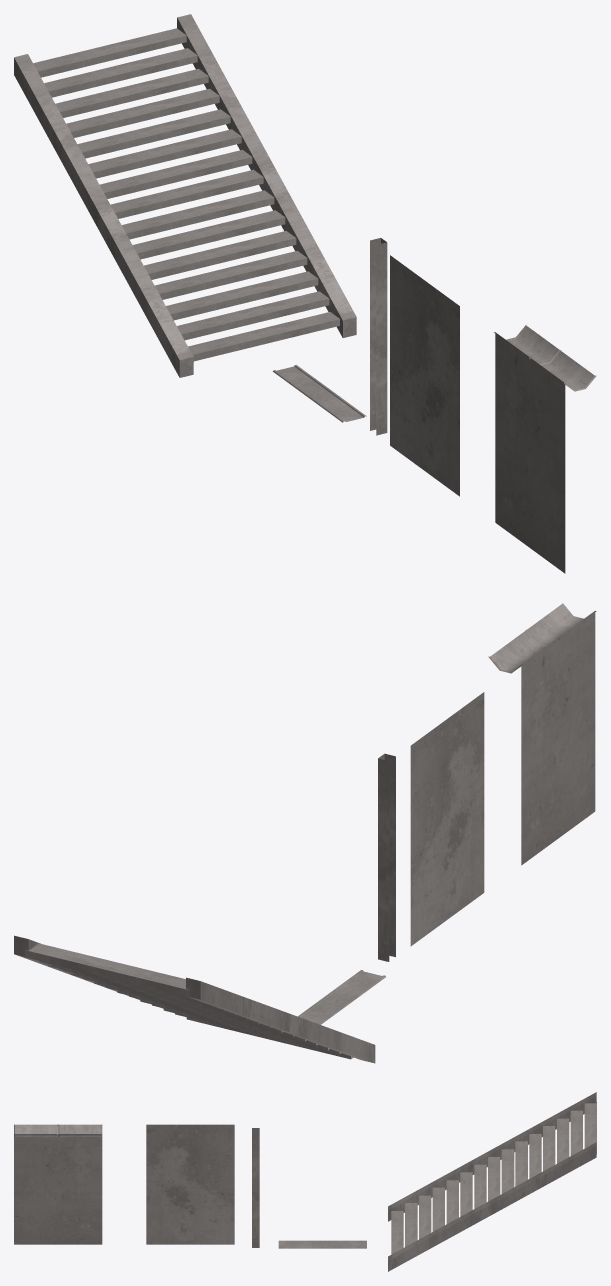
Rendered from Models.fbx.
3 renders of one model, top to bottom at view 1: azimuth 30°, elevation 25°; view 2: azimuth 150°, elevation 25°; view 3: azimuth 270°, elevation 25°, orthographic. The views are drawn at different scales.
Visible parts, largest first — view 1: Cube.001, Plane.001, Plane, Cube, Plane.002, Plane.003; view 2: Plane, Plane.001, Cube.001, Cube, Plane.002, Plane.003; view 3: Cube.001, Plane, Plane.001, Plane.002, Cube, Plane.003.
Part boxes in pixels (box(x1,y1,x2,y2)): Cube.001: box(14, 14, 356, 377); Plane.001: box(495, 332, 565, 573); Plane: box(390, 255, 459, 496); Cube: box(370, 238, 387, 435); Plane.002: box(494, 325, 596, 391); Plane.003: box(273, 365, 366, 422); Plane: box(410, 692, 484, 946); Plane.001: box(521, 611, 595, 865); Cube.001: box(14, 935, 375, 1063); Cube: box(378, 753, 395, 961); Plane.002: box(488, 603, 596, 673); Plane.003: box(298, 970, 385, 1024); Cube.001: box(388, 1092, 596, 1271); Plane: box(146, 1124, 234, 1244); Plane.001: box(14, 1124, 102, 1244); Plane.002: box(14, 1124, 102, 1137); Cube: box(252, 1128, 259, 1247); Plane.003: box(278, 1240, 366, 1248).
Bounding box in the file's own units: 292 × 314 × 1321.
